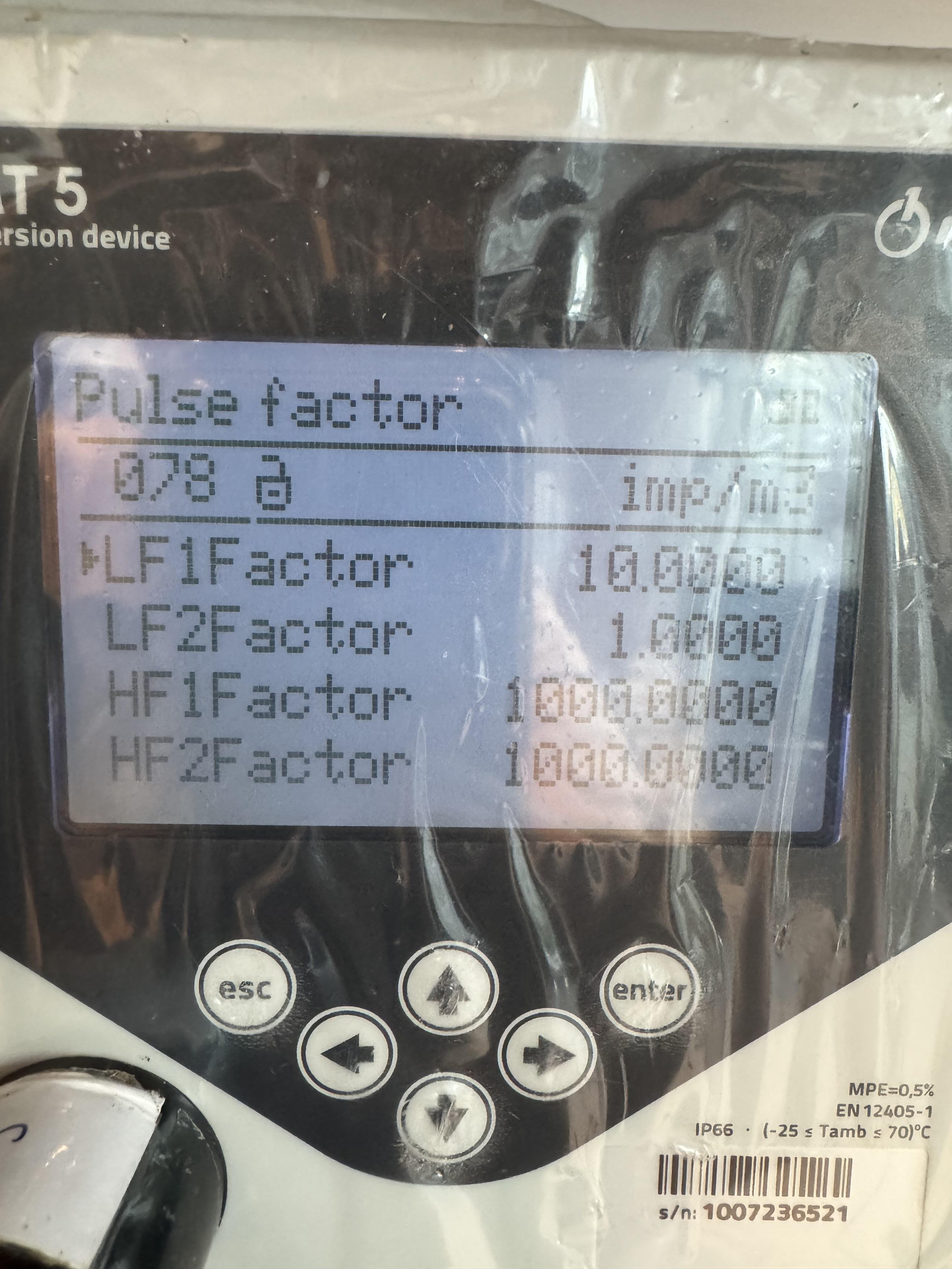digital_screen: (28, 338, 876, 844)
